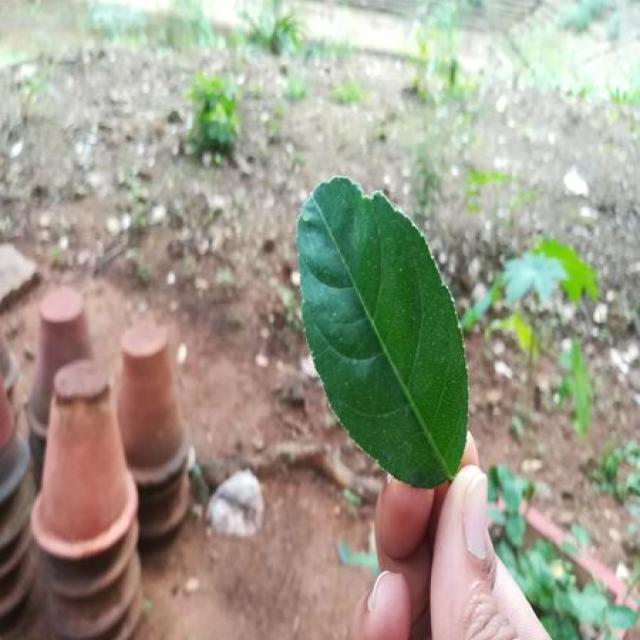badipala: (297, 178, 468, 488)
